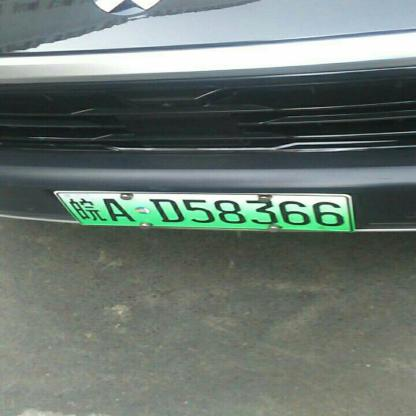lp: (56, 194, 81, 232)
